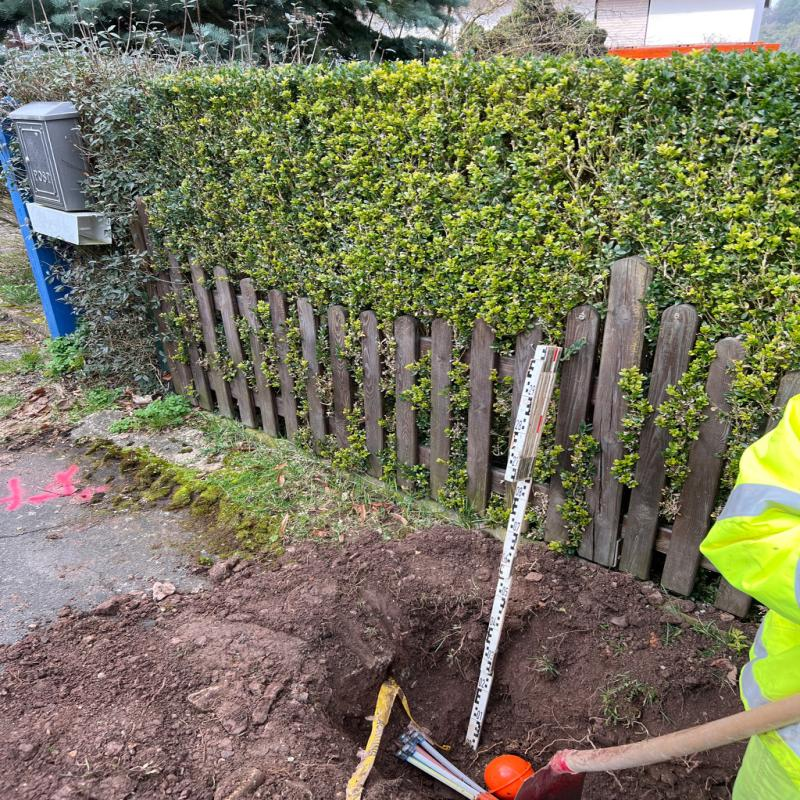Kugelmarker: (484, 754, 532, 800)
